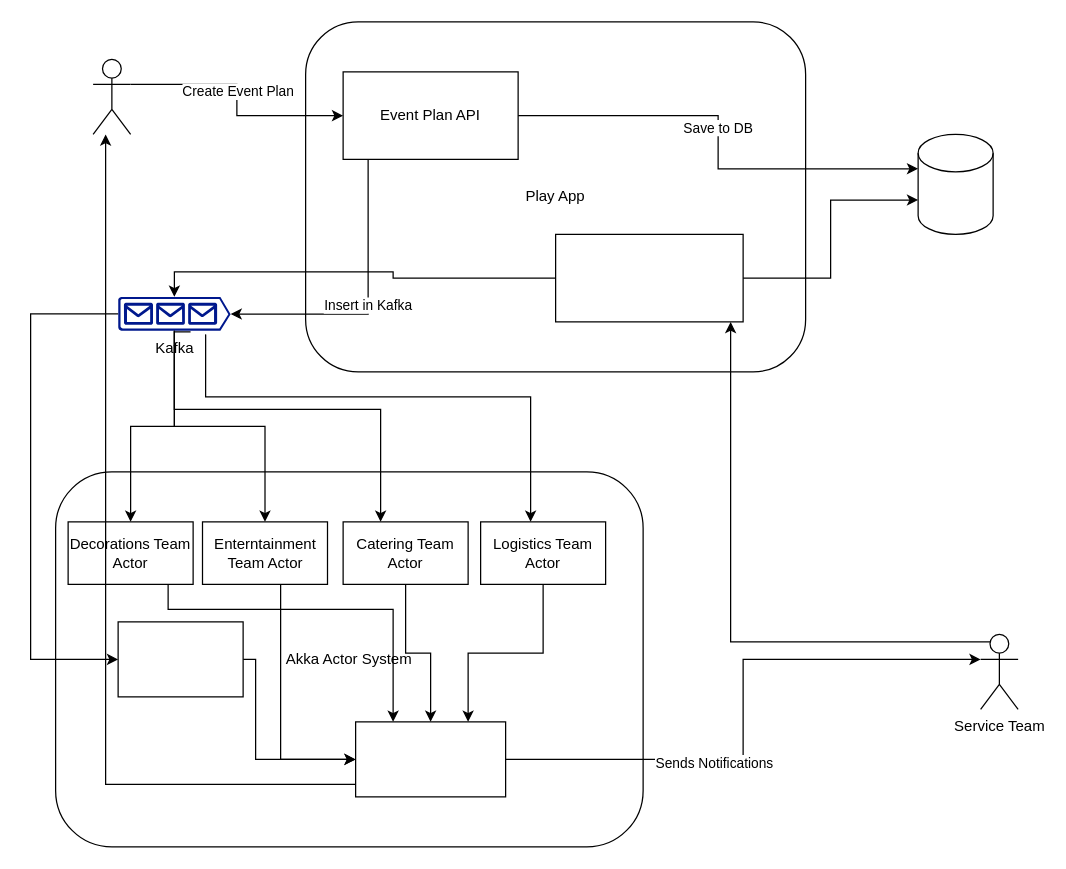
The diagram is 1066 pixels wide and 869 high, and some of its shapes have lost their labels. Here are the shapes that lost their labels. From the top down, the centre of each, then its label:
At point (111, 96): "Event Manager".
At point (955, 183): "DB".
At point (648, 277): "Task API".
At point (180, 659): "Event Manager Actor".
At point (430, 759): "Notification Actor".
